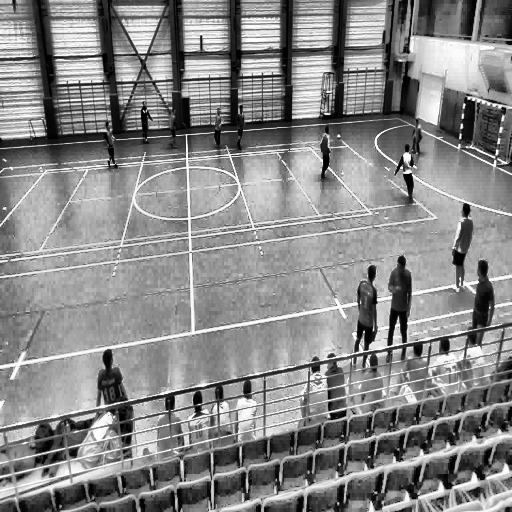ball: (337, 132, 342, 142)
player: (352, 264, 378, 369), (386, 253, 411, 359), (450, 202, 473, 292), (471, 260, 495, 341), (392, 142, 415, 205), (104, 120, 119, 171), (319, 124, 332, 181), (140, 104, 154, 146), (412, 120, 424, 160), (235, 104, 245, 150), (168, 106, 178, 150), (212, 107, 222, 149)
